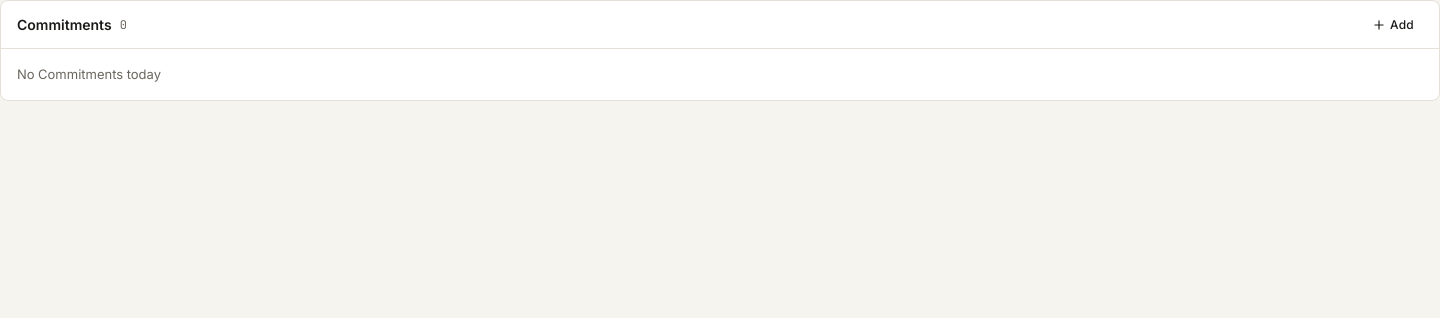
Scenario: CommitmentsPanel › opens an inline add form with default times and closes it on cancel
Click the button "Add".
click(1393, 24)  # box x1=1363 y1=10 x2=1423 y2=38
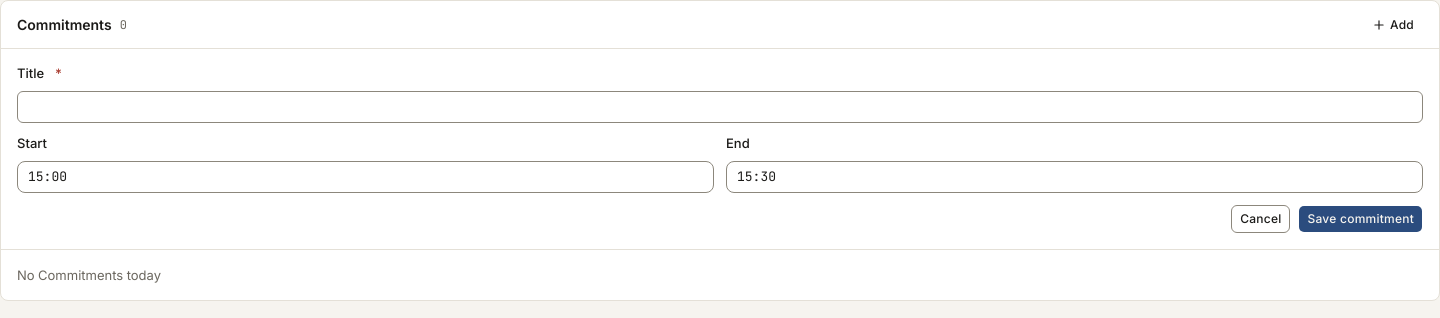
Result: the field labelled "Title *" is shown at x1=17 y1=91 x2=1423 y2=123
Result: the field labelled "Start" holds "15:00" at x1=17 y1=161 x2=714 y2=193
Result: the field labelled "End" holds "15:30" at x1=726 y1=161 x2=1423 y2=193
Click the button "Cancel".
click(1261, 219)  # box x1=1231 y1=205 x2=1290 y2=233
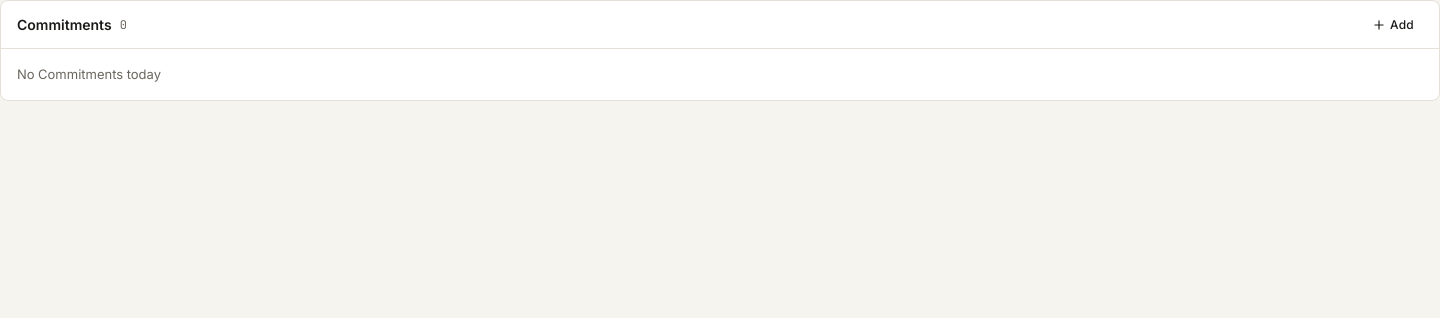
Result: the label labelled "Title" is gone
